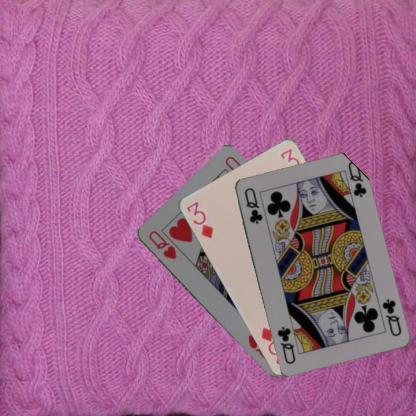3d: (184, 199, 214, 240)
Qc: (379, 296, 403, 337), (242, 185, 264, 225)
Qh: (146, 228, 178, 261)
